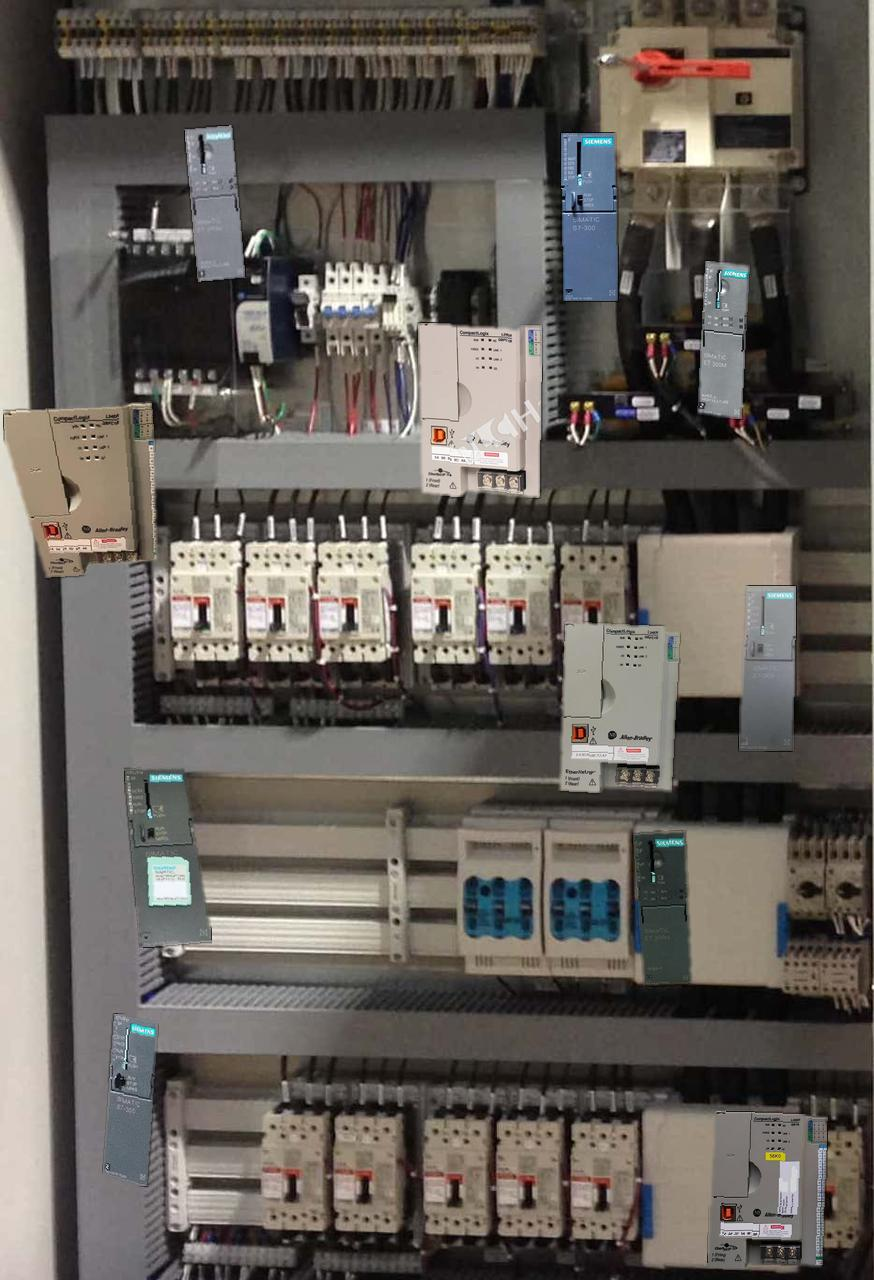AllenBradley: (4, 403, 156, 577), (418, 323, 541, 497), (560, 623, 678, 792), (707, 1111, 826, 1269)
Siemens: (124, 768, 211, 947), (561, 133, 617, 300), (739, 586, 795, 750), (104, 1014, 156, 1185)
